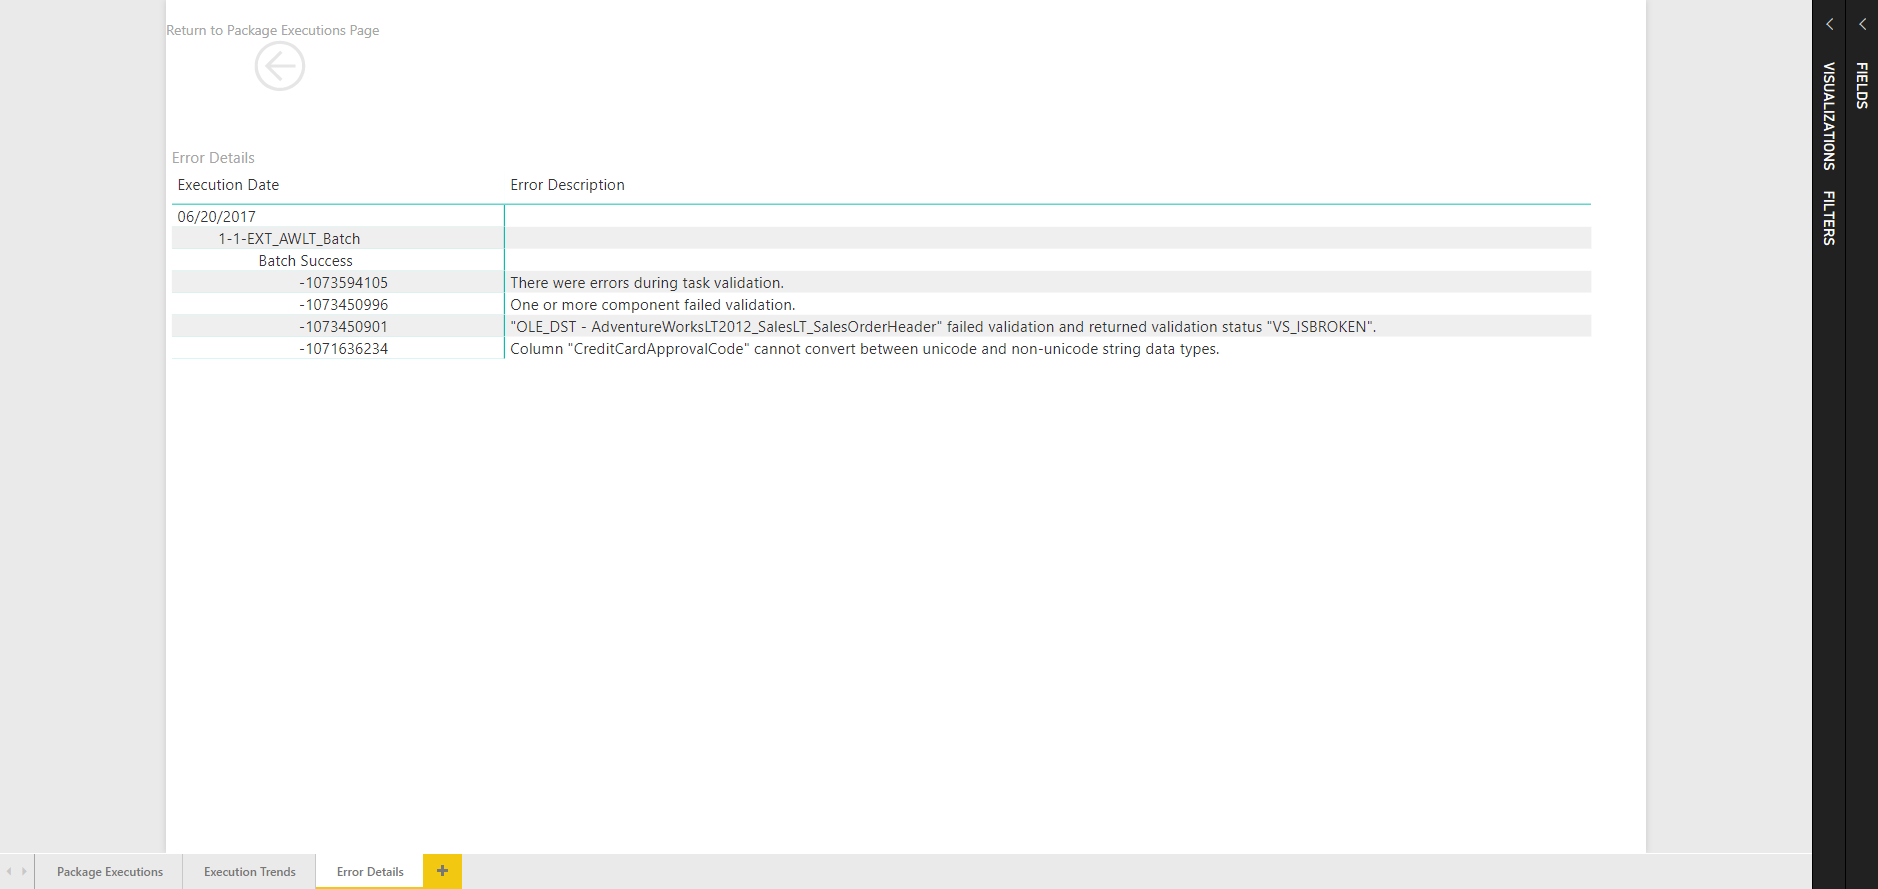

Layout of this report page (visuals, bound fields, positions):
{"tool":"powerbi","page":{"name":"Error Details","canvas":[1280,720],"ordinal":2},"visuals":[{"type":"pivotTable","fields":{"Rows":["rpt ExecutionDetailsWithRowCounts.ExecutionDate","rpt ExecutionDetailsWithRowCounts.Package Label","rpt ExecutionDetailsWithRowCounts.PackageTypeStatus","rpt ExecutionDetailsWithRowCounts.ErrorCode"],"Values":["Min(rpt ExecutionDetailsWithRowCounts.ErrorDescription)"]},"box":[0,109.9,1278.8,610.1],"z":1},{"type":"basicShape","box":[0,0,197,63.4],"z":2}]}

Visuals, with their boxes on the page's 1280x720 design canvas (x1, y1, x2, y2). These are canvas units, not pixel positions in the 1878x889 screenshot, which may show the page scaled, cropped or inside an application window:
pivotTable - rpt ExecutionDetailsWithRowCounts.ExecutionDate x rpt ExecutionDetailsWithRowCounts.Package Label: (left=0, top=110, right=1279, bottom=720)
basicShape: (left=0, top=0, right=197, bottom=63)
